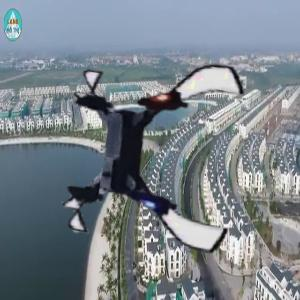drone: (60, 54, 254, 248)
